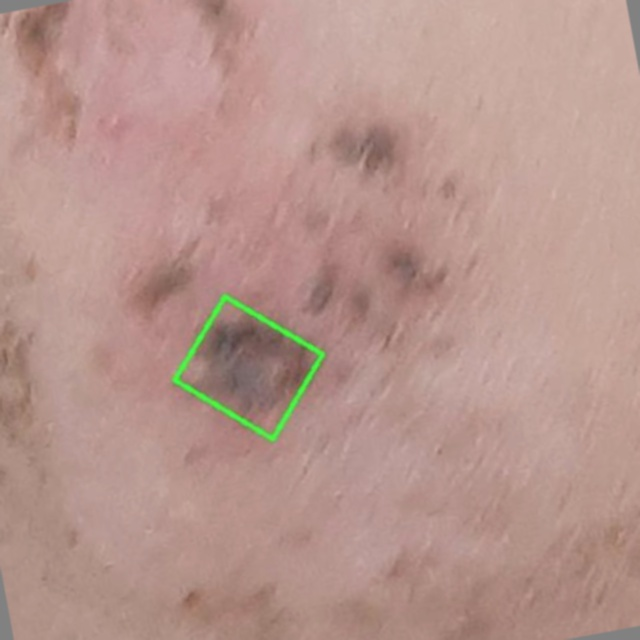Contact Dermatitis: (174, 297, 322, 439)
